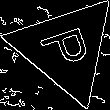P_E: (35, 23, 97, 74)
